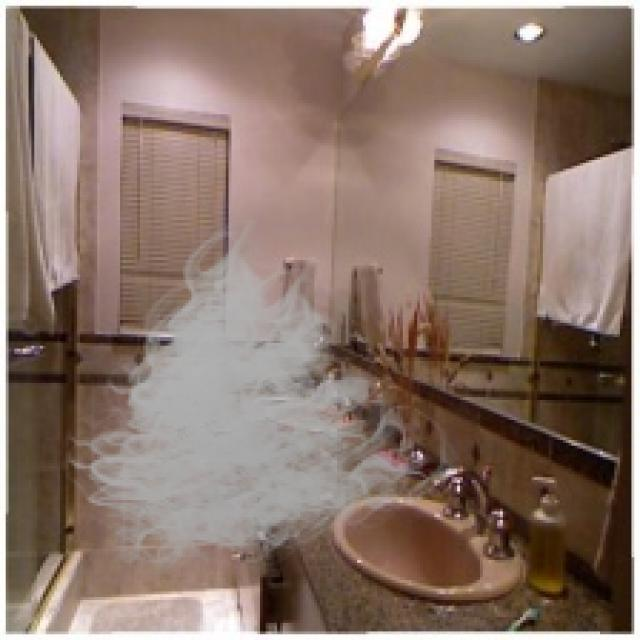Smoke: (51, 220, 463, 589)
